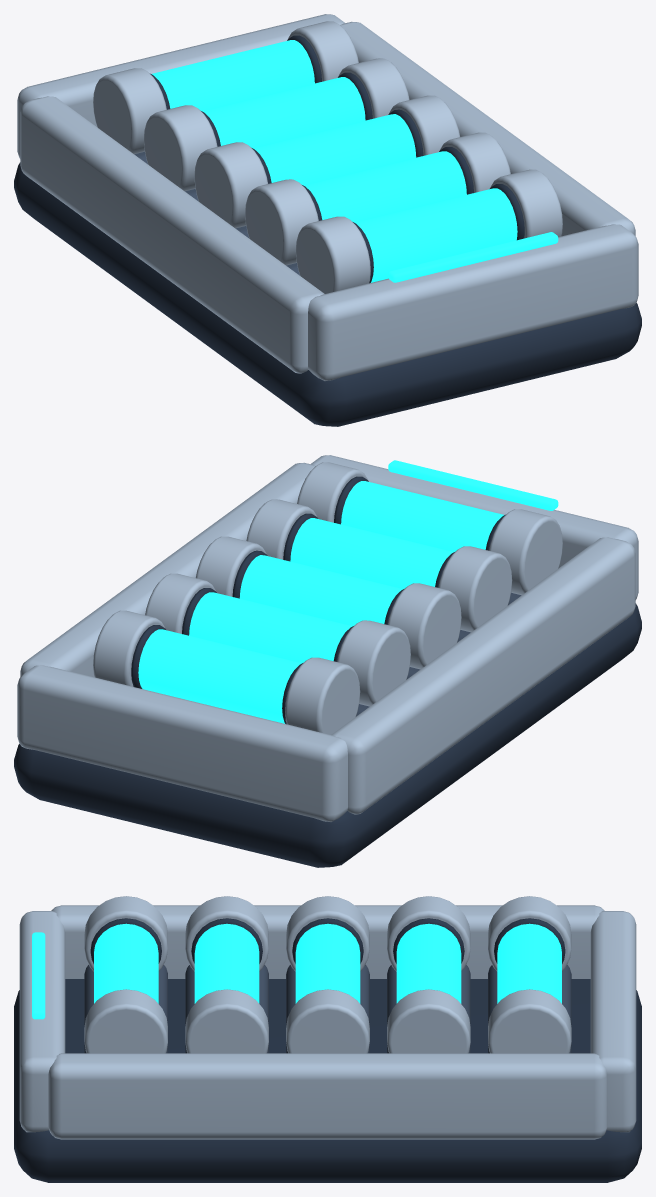
The model's file is AFJ_Cartridge_Depot.fbx.
The picture shows the model from 3 angles, top to bottom: view 1: azimuth 30°, elevation 25°; view 2: azimuth 150°, elevation 25°; view 3: azimuth 270°, elevation 25°; orthographic projection.
Visible parts, largest first — view 1: Depot_SideRail, Depot_EndRail, Depot_Backplate, Energy_Core_01, Depot_SideRail.001, Energy_Core_05, Energy_Core_04, Energy_Core_02, Energy_Core_03, Depot_EndRail.001, Cartridge_Endcap, Cartridge_Endcap.002 (+9 smaller); view 2: Depot_EndRail.001, Depot_SideRail, Depot_Backplate, Energy_Core_05, Depot_SideRail.001, Energy_Core_01, Energy_Core_02, Energy_Core_04, Energy_Core_03, Depot_EndRail, Cartridge_Endcap.008, Cartridge_Endcap.006 (+9 smaller); view 3: Depot_SideRail.001, Depot_Backplate, Depot_SideRail, Depot_EndRail.001, Depot_EndRail, Cartridge_Endcap.005, Cartridge_Endcap.001, Cartridge_Endcap.003, Cartridge_Endcap.007, Cartridge_Endcap.009, Energy_Core_02, Energy_Core_03 (+19 smaller).
Part boxes in pixels (bbox=[...]): Depot_SideRail: bbox=[20, 96, 324, 373]; Depot_EndRail: bbox=[308, 224, 638, 380]; Depot_Backplate: bbox=[14, 162, 641, 426]; Energy_Core_01: bbox=[354, 188, 517, 282]; Depot_SideRail.001: bbox=[340, 21, 635, 236]; Energy_Core_05: bbox=[151, 40, 314, 110]; Energy_Core_04: bbox=[202, 77, 365, 147]; Energy_Core_02: bbox=[303, 151, 466, 222]; Energy_Core_03: bbox=[253, 114, 416, 185]; Depot_EndRail.001: bbox=[17, 14, 344, 158]; Cartridge_Endcap: bbox=[295, 216, 370, 293]; Cartridge_Endcap.002: bbox=[245, 179, 318, 265]; Depot_EndRail.001: bbox=[17, 665, 347, 821]; Depot_SideRail: bbox=[331, 537, 635, 814]; Depot_Backplate: bbox=[14, 603, 641, 867]; Energy_Core_05: bbox=[138, 629, 301, 723]; Depot_SideRail.001: bbox=[20, 462, 315, 677]; Energy_Core_01: bbox=[341, 481, 504, 551]; Energy_Core_02: bbox=[290, 518, 453, 588]; Energy_Core_04: bbox=[189, 592, 352, 663]; Energy_Core_03: bbox=[239, 555, 402, 626]; Depot_EndRail: bbox=[311, 455, 638, 599]; Cartridge_Endcap.008: bbox=[285, 657, 360, 734]; Cartridge_Endcap.006: bbox=[337, 620, 410, 706]; Depot_SideRail.001: bbox=[48, 1053, 607, 1139]; Depot_Backplate: bbox=[14, 979, 641, 1182]; Depot_SideRail: bbox=[51, 905, 604, 978]; Depot_EndRail.001: bbox=[590, 911, 636, 1132]; Depot_EndRail: bbox=[19, 911, 65, 1132]; Cartridge_Endcap.005: bbox=[286, 989, 369, 1053]; Cartridge_Endcap.001: bbox=[84, 989, 167, 1053]; Cartridge_Endcap.003: bbox=[185, 989, 268, 1053]; Cartridge_Endcap.007: bbox=[387, 989, 470, 1053]; Cartridge_Endcap.009: bbox=[488, 989, 571, 1053]; Energy_Core_02: bbox=[194, 923, 259, 1003]; Energy_Core_03: bbox=[295, 923, 360, 1003].
Bounding box in the file's own units: 104 × 47 × 165.
